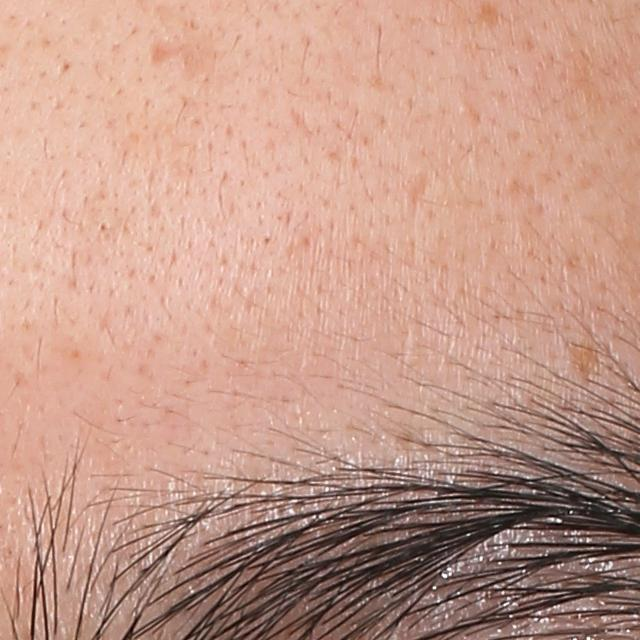atrophic_scar: (144, 1, 221, 83), (404, 170, 438, 219)
comedo: (95, 215, 114, 235), (455, 98, 473, 117)
